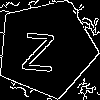Z: (21, 23, 57, 72)
